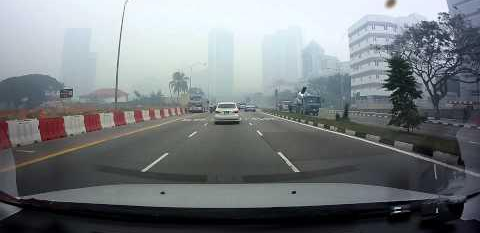bus: (188, 91, 210, 113)
car: (213, 101, 243, 125), (274, 100, 293, 111), (244, 103, 256, 112)
